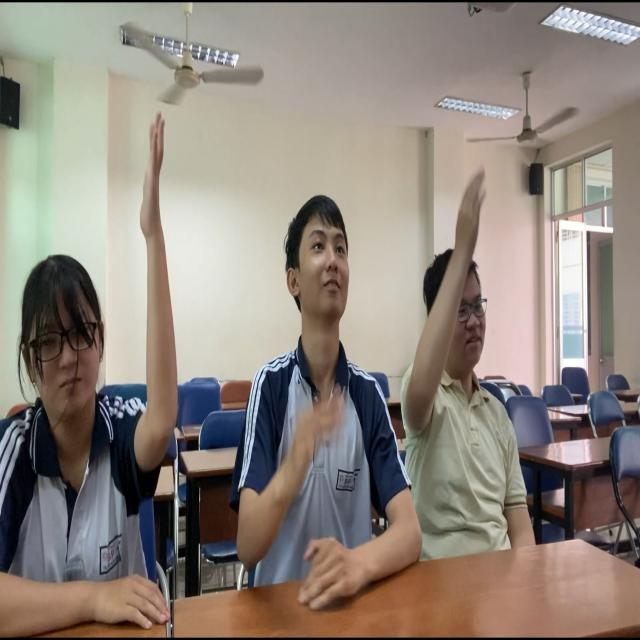raise_hand: (1, 114, 184, 639), (413, 169, 541, 568)
